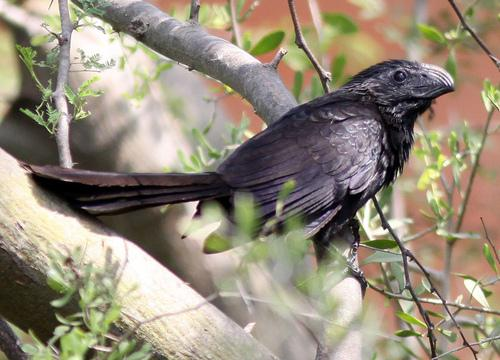004.Groove_billed_Ani: (32, 59, 454, 293)
